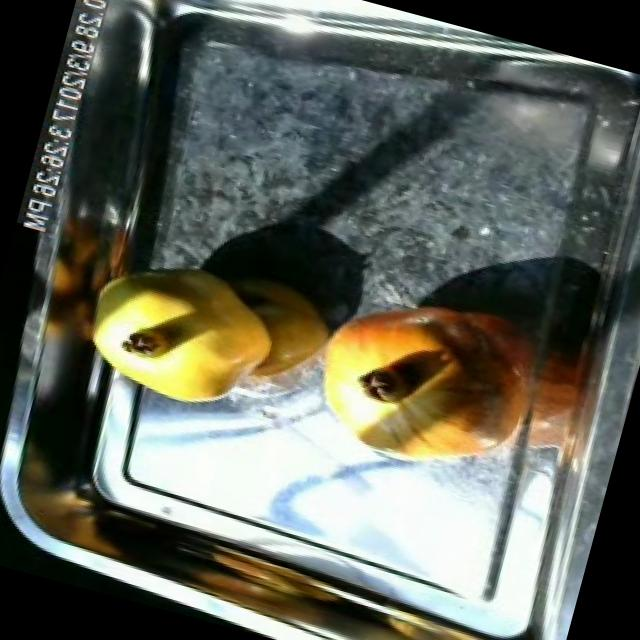fruit: (292, 270, 568, 500), (63, 237, 298, 430)
